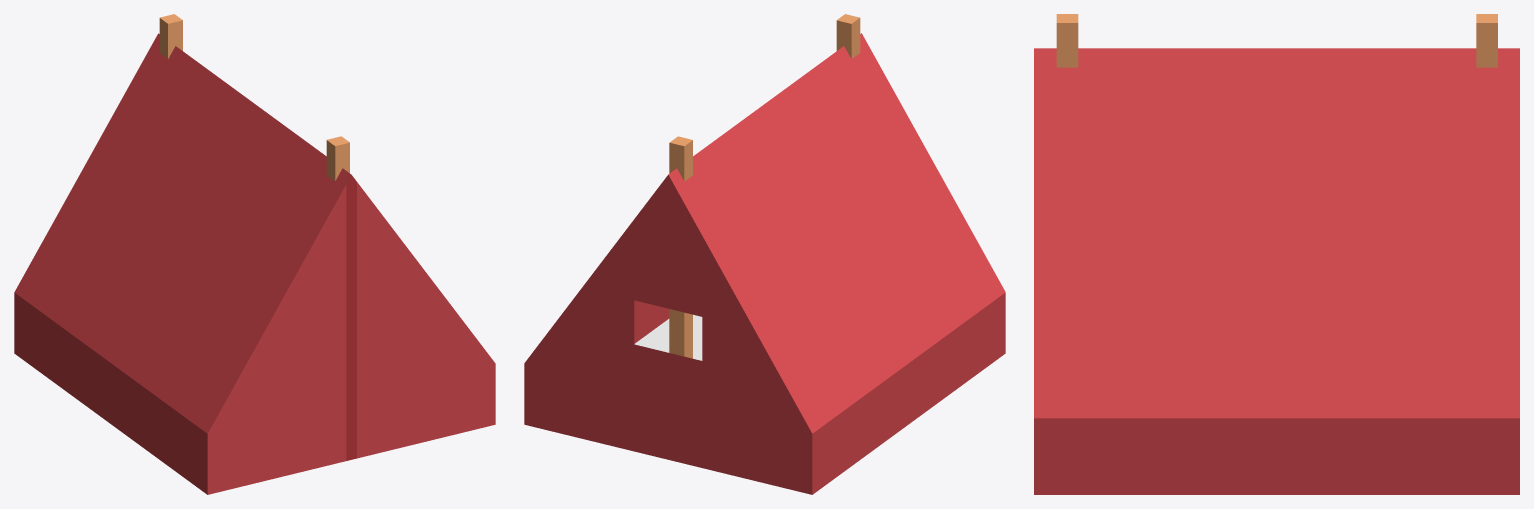
File: tent_smallClosed.fbx
3 views of the same model, side by side, from view 1: azimuth 30°, elevation 25°; view 2: azimuth 150°, elevation 25°; view 3: azimuth 270°, elevation 25° (orthographic). The views are drawn at different scales.
Visible parts, largest first — view 1: tent_smallClosed; view 2: tent_smallClosed; view 3: tent_smallClosed.
Boxes of the visible parts, left/top/right/bottom form: tent_smallClosed: left=14, top=14, right=495, bottom=494; tent_smallClosed: left=524, top=14, right=1005, bottom=494; tent_smallClosed: left=1034, top=14, right=1519, bottom=494.
Size of the model in its own units: 5.48 by 5.61 by 6.36.
